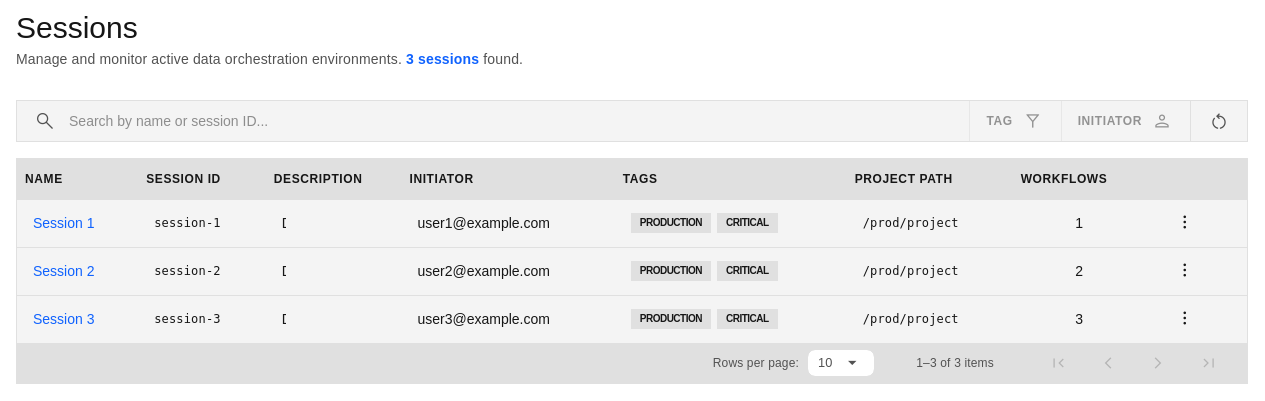
Test case: SessionListPage › Search & Filter › should filter sessions by search term
The image size is (1265, 401).
expect the text "Session 1" is shown: met, box [33,215,94,231]
Type "Session 1" into the field with placeholder "Search by name or session ID..." at [511, 121], box [69,111,952,131]
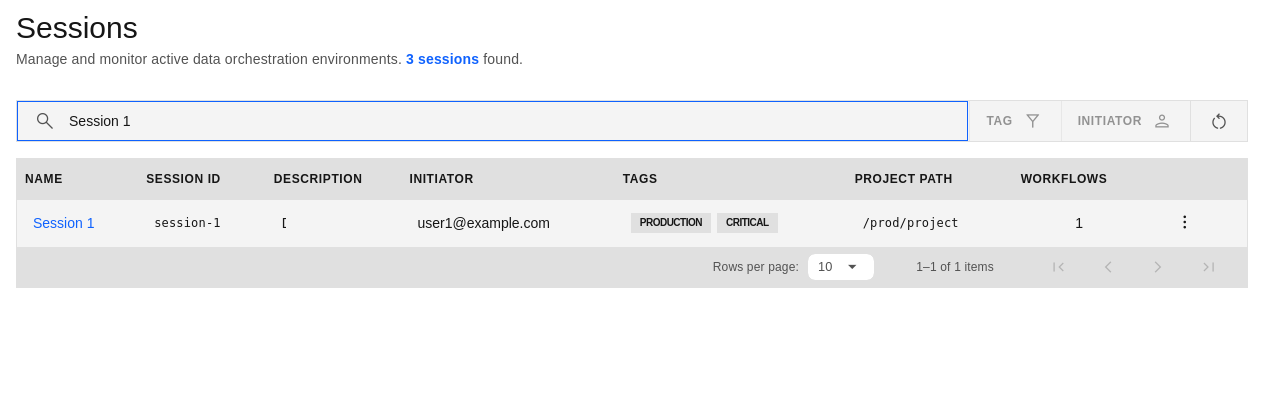
expect the text "Session 1" is shown: met, box [33,215,94,231]
expect the text "Session 2" is gone: met
